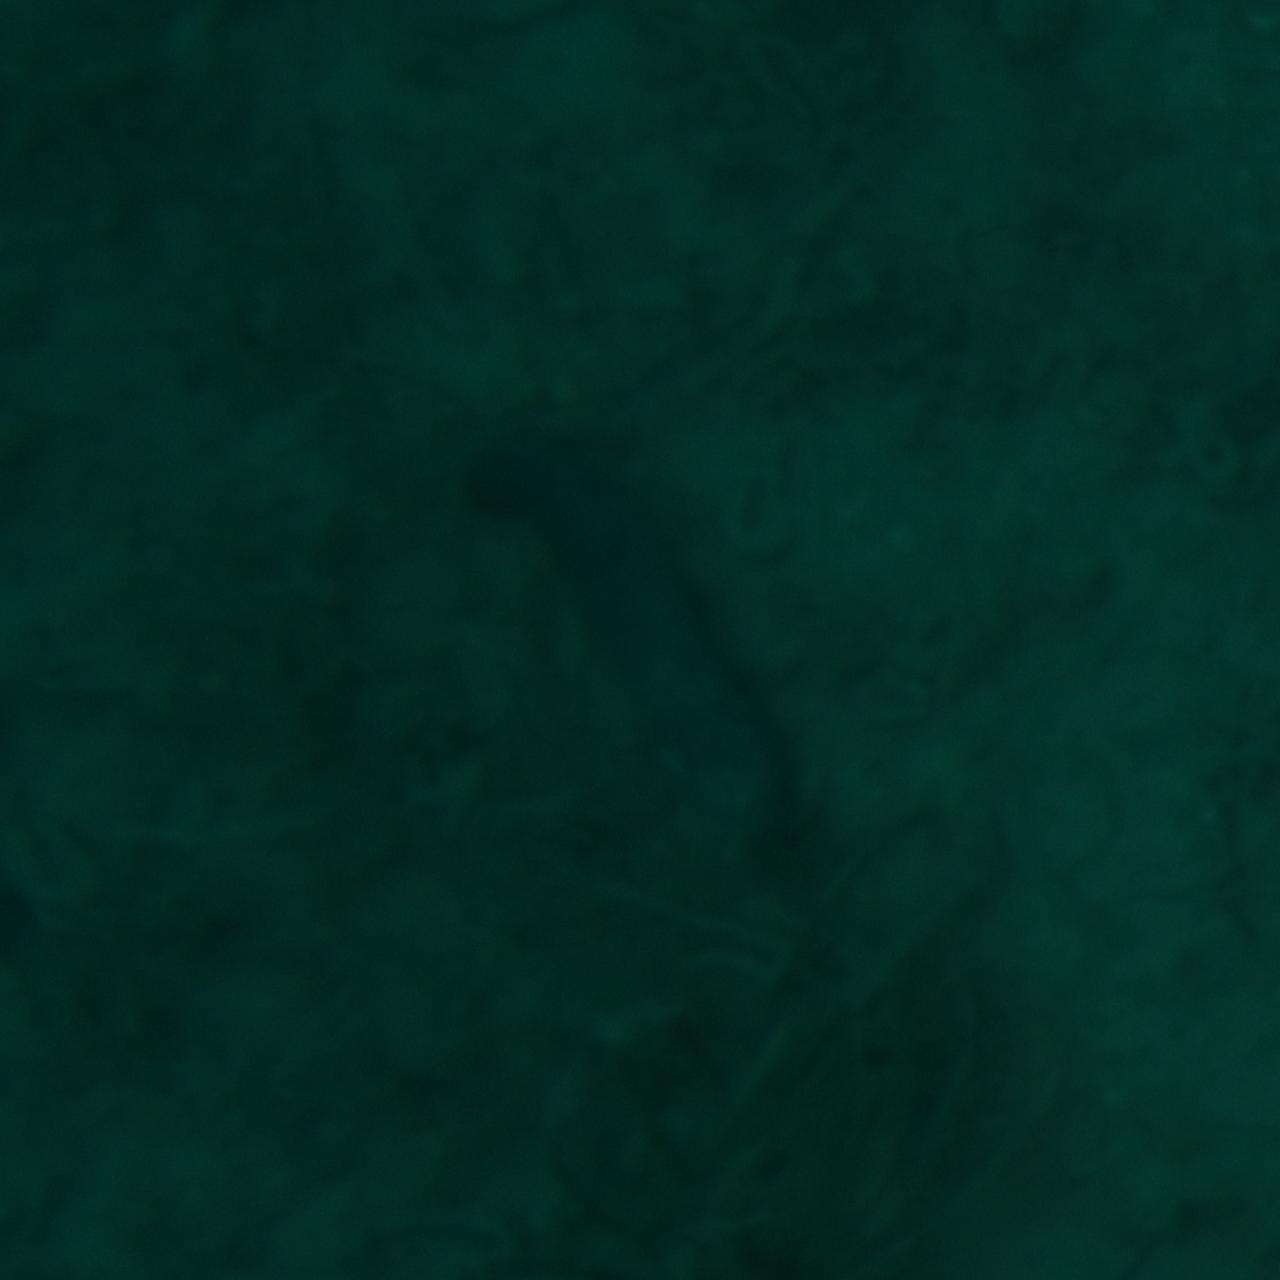Holothuria tubulosa: (468, 412, 812, 868)
